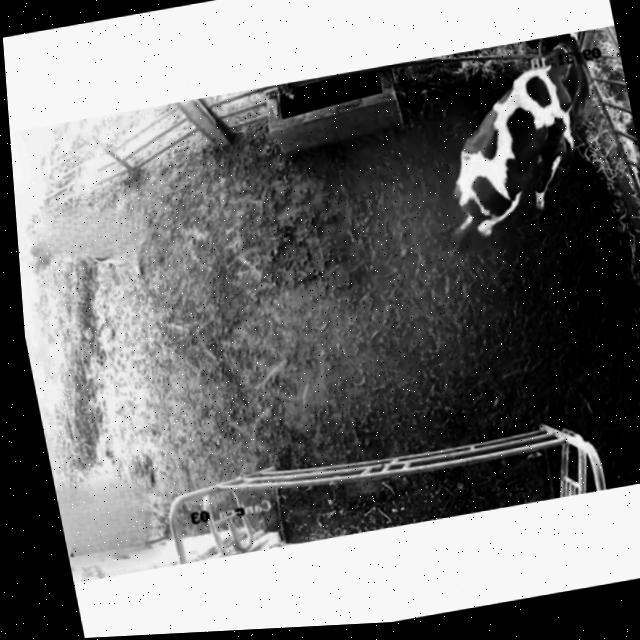ride: (408, 29, 625, 264)
